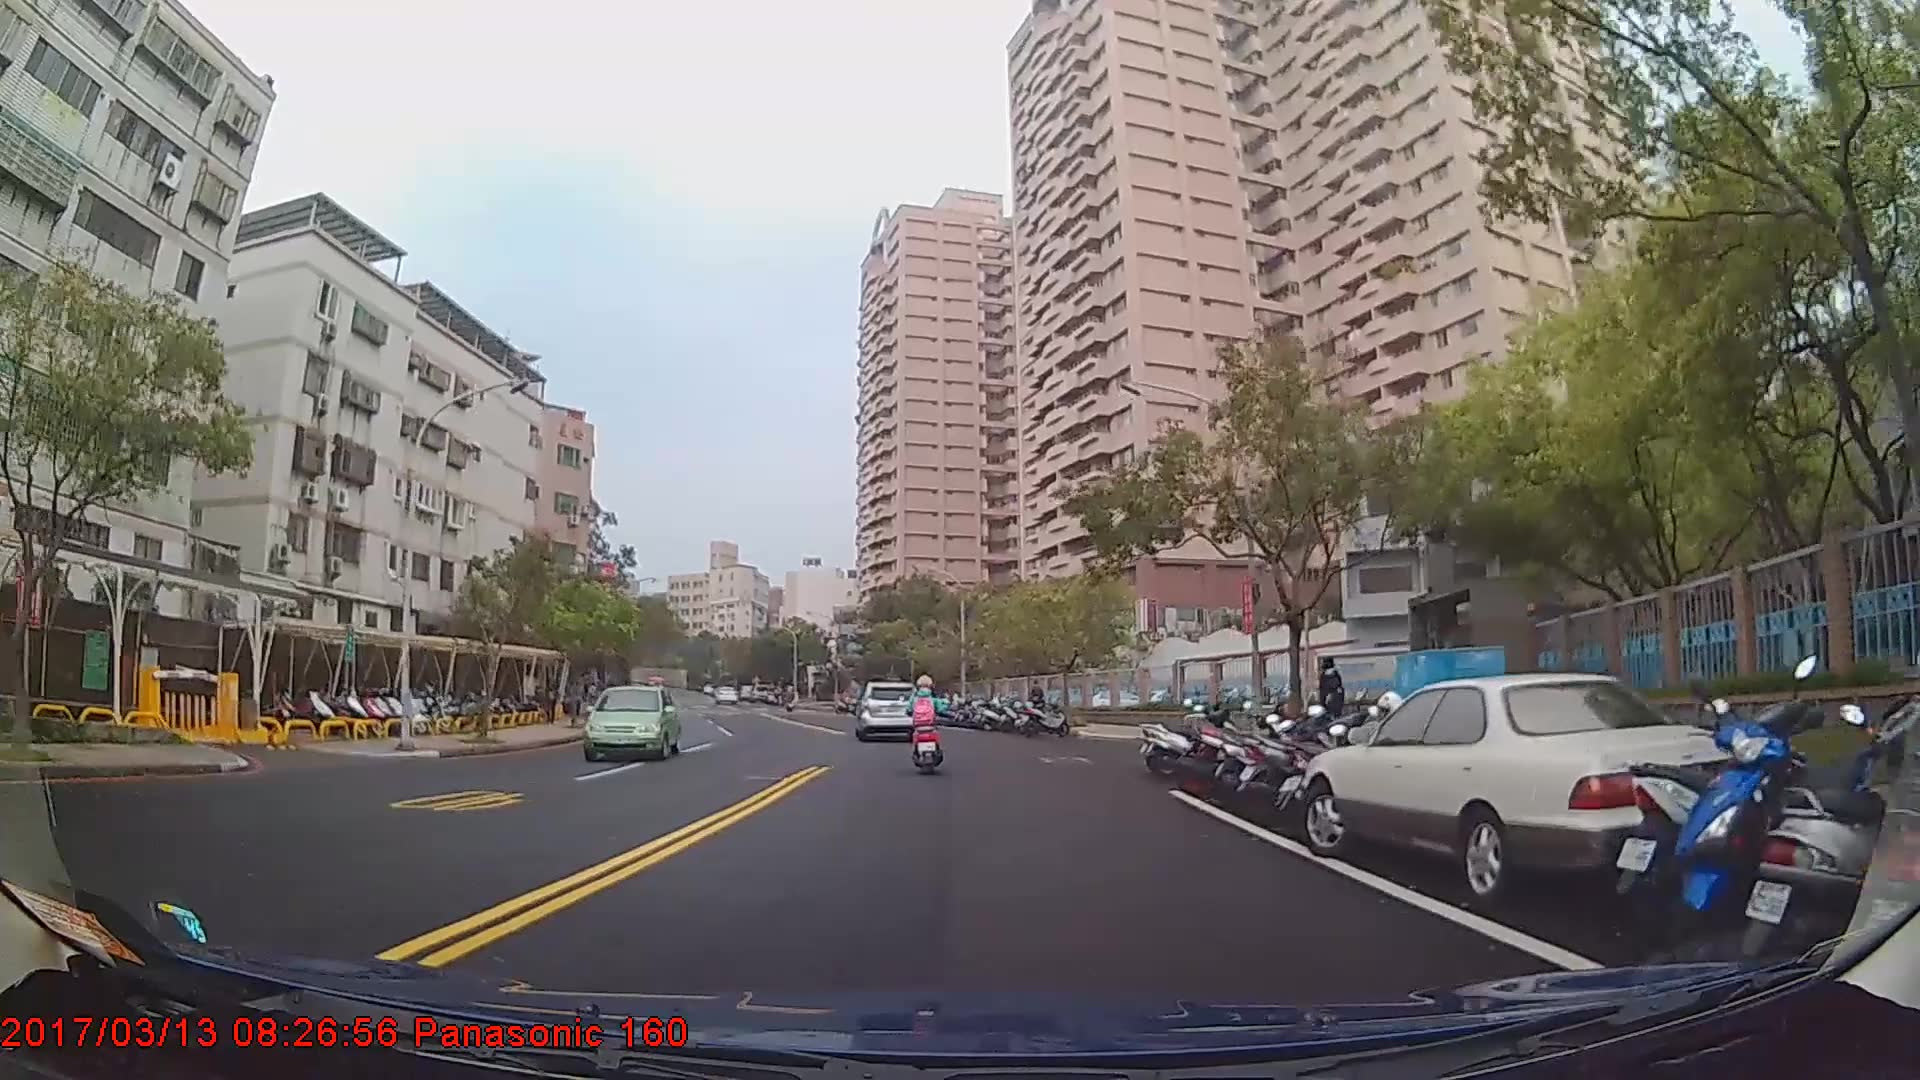pedestrian: (1315, 656, 1346, 752), (1028, 681, 1048, 728)
rider: (907, 675, 949, 779)
vehicle: (1303, 670, 1812, 907), (580, 685, 679, 762), (857, 680, 923, 742)
